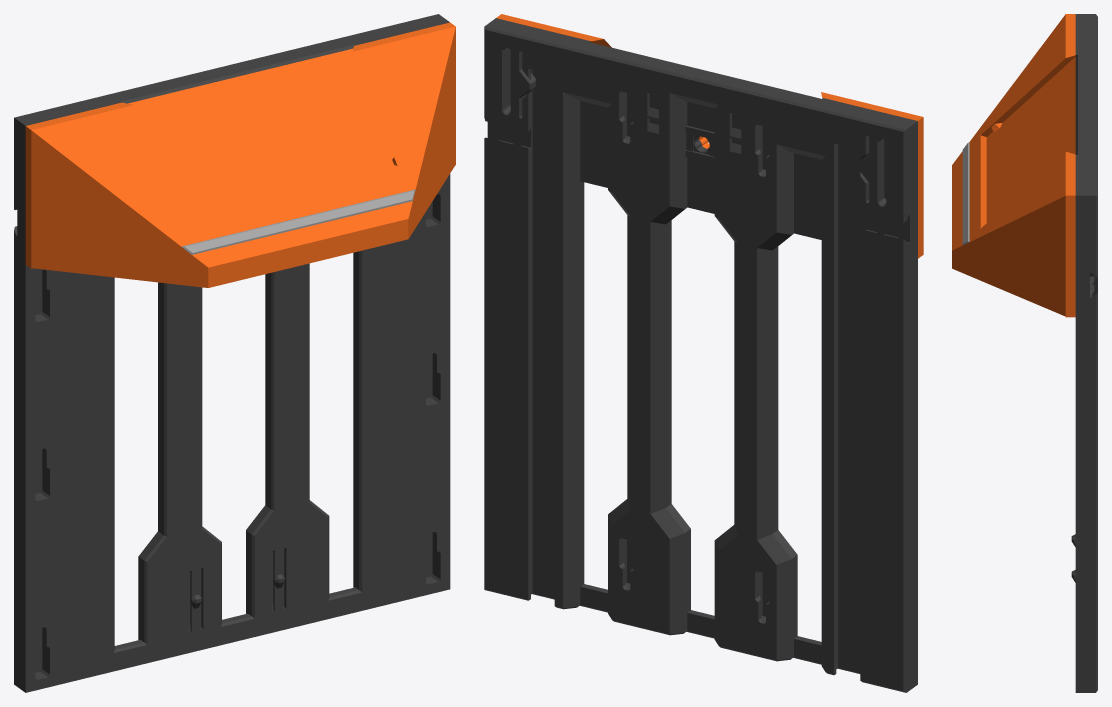
Rendered from Faceplate_ClassicPro_1W-2H.lib.glb.
The picture shows the model from 3 angles, left to right: view 1: azimuth 30°, elevation 25°; view 2: azimuth 150°, elevation 25°; view 3: azimuth 270°, elevation 25°; orthographic projection. The views are drawn at different scales.
Parts seen in each view (by area): view 1: Faceplate_ClassicPro_1W-2H; view 2: Faceplate_ClassicPro_1W-2H; view 3: Faceplate_ClassicPro_1W-2H.
Boxes of the visible parts, x1=… form: Faceplate_ClassicPro_1W-2H: x1=14, y1=14, x2=455, y2=692; Faceplate_ClassicPro_1W-2H: x1=484, y1=14, x2=923, y2=692; Faceplate_ClassicPro_1W-2H: x1=952, y1=14, x2=1097, y2=692.
Bounding box in the file's own units: 87 × 111 × 29.5.
